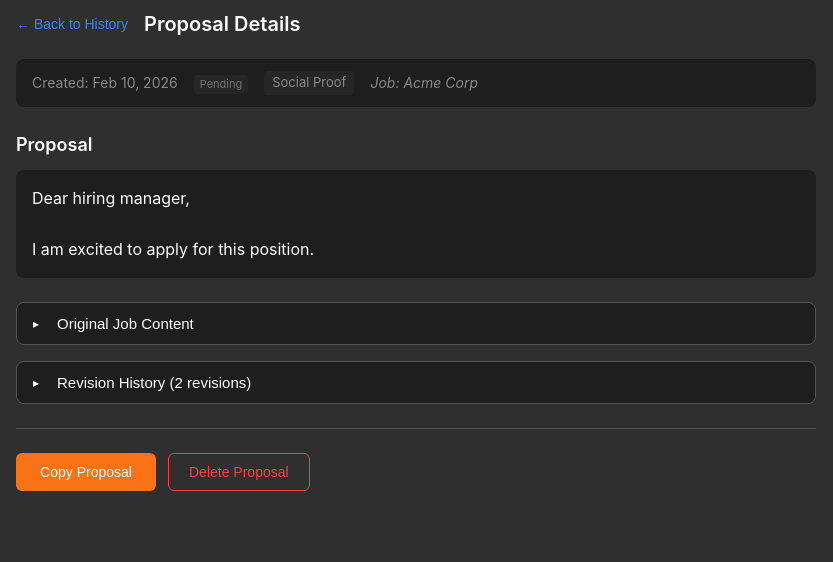
Scenario: ProposalDetailView › expands original job content on click
Expected: the text "Looking for a React developer with TypeScript experience." is not shown
Note: Click to expand
Step 1. Click the button "▸ Original Job Content" → (125, 324), box [17,303,815,344]
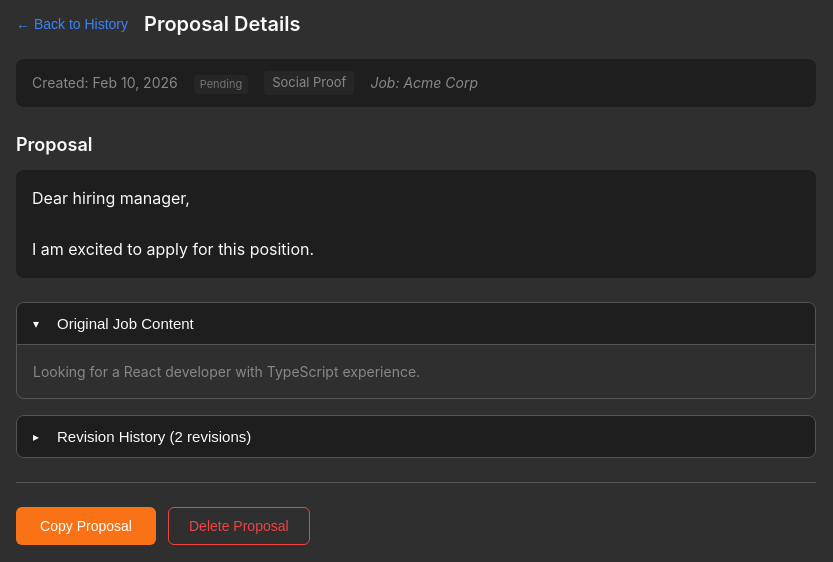
Now the text "Looking for a React developer with TypeScript experience." is shown, box [17,344,815,398]
